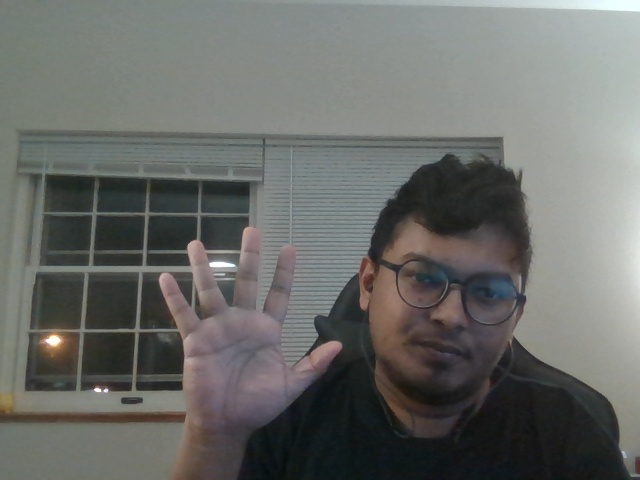hello: (139, 221, 351, 427)
